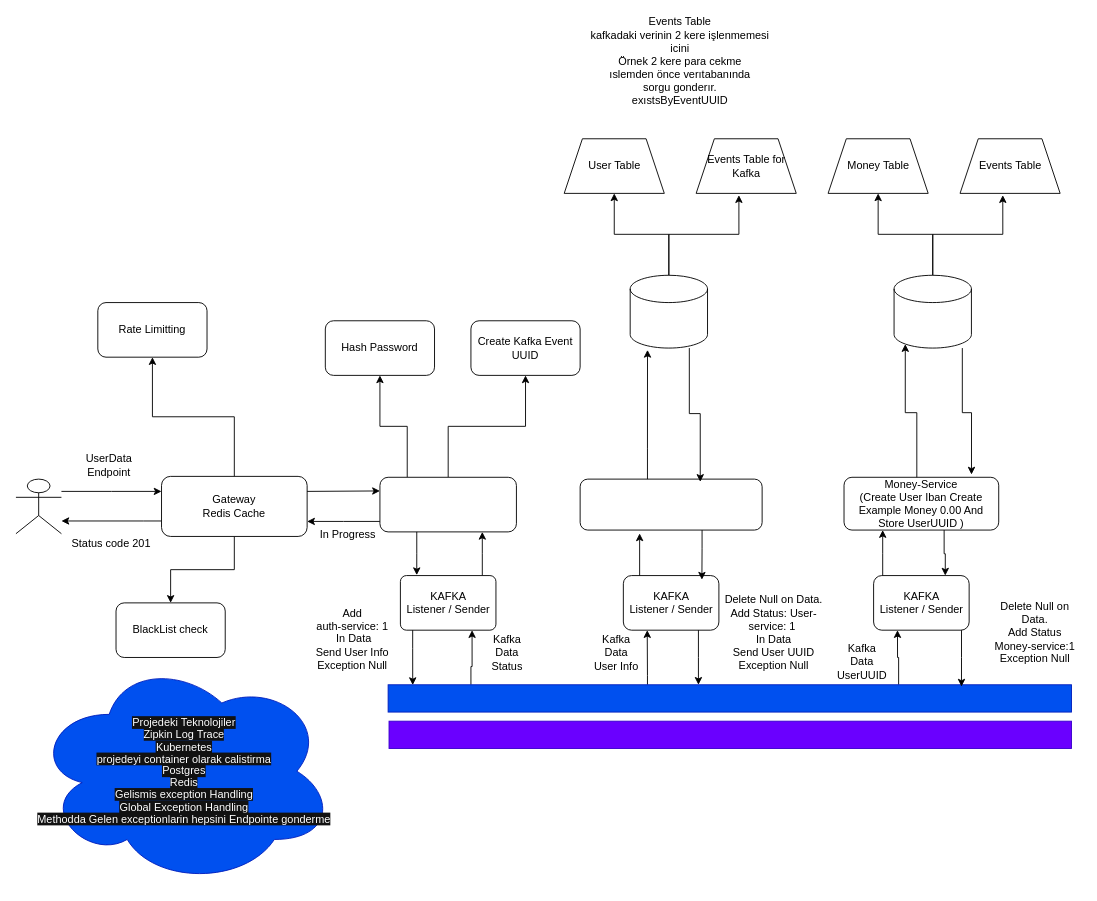
This 1097x901 diagram has some shape labels left out. Each missing label, with the centre of its shape:
"CREATEUSER-TOPIC" In Kafka: the point at 729,698
auth-service (Storing User Information And Hash Password): the point at 447,504
Event Driven Architecture With Kafka: the point at 730,734
Money DB: the point at 932,311
User DB: the point at 668,311
User-Service (Create User UUID and Store User Information): the point at 670,504
Yigit: the point at 38,506
